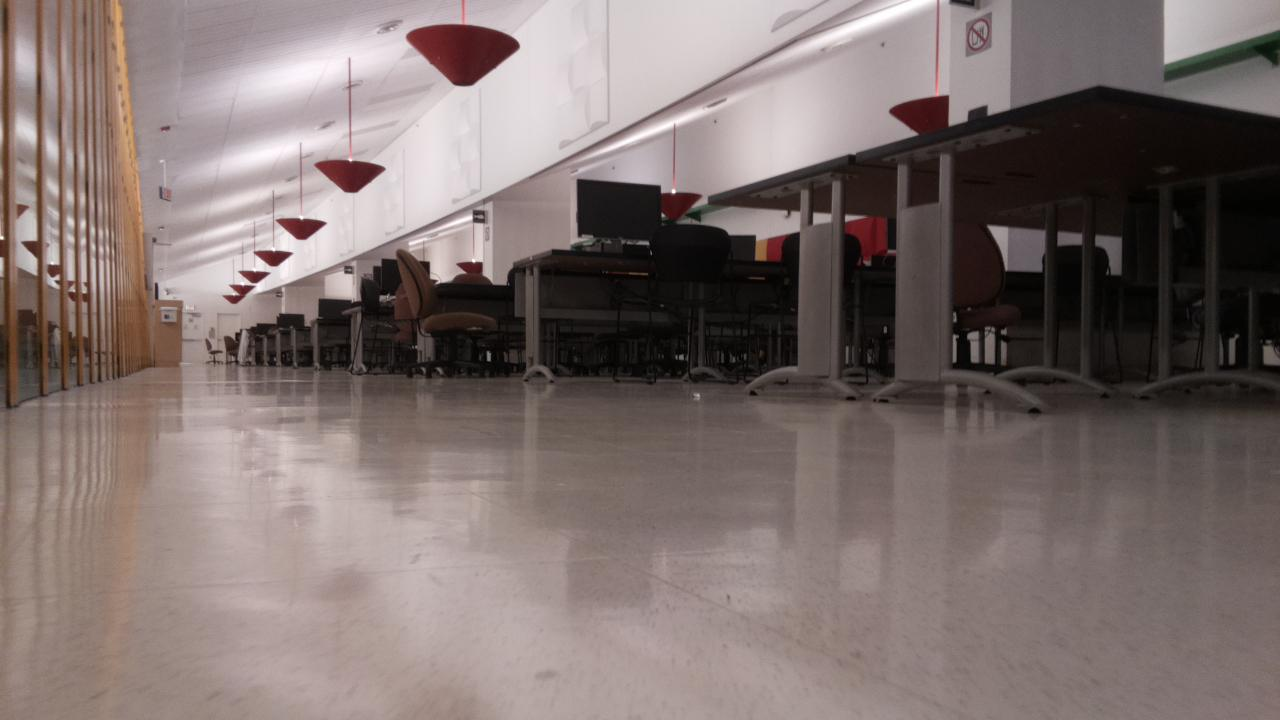sign: (966, 12, 991, 56), (473, 210, 484, 222), (162, 187, 171, 199), (344, 266, 351, 272), (163, 314, 173, 318), (276, 292, 281, 296)
tvmonitor: (577, 179, 661, 240), (381, 259, 429, 289), (319, 299, 351, 317)
